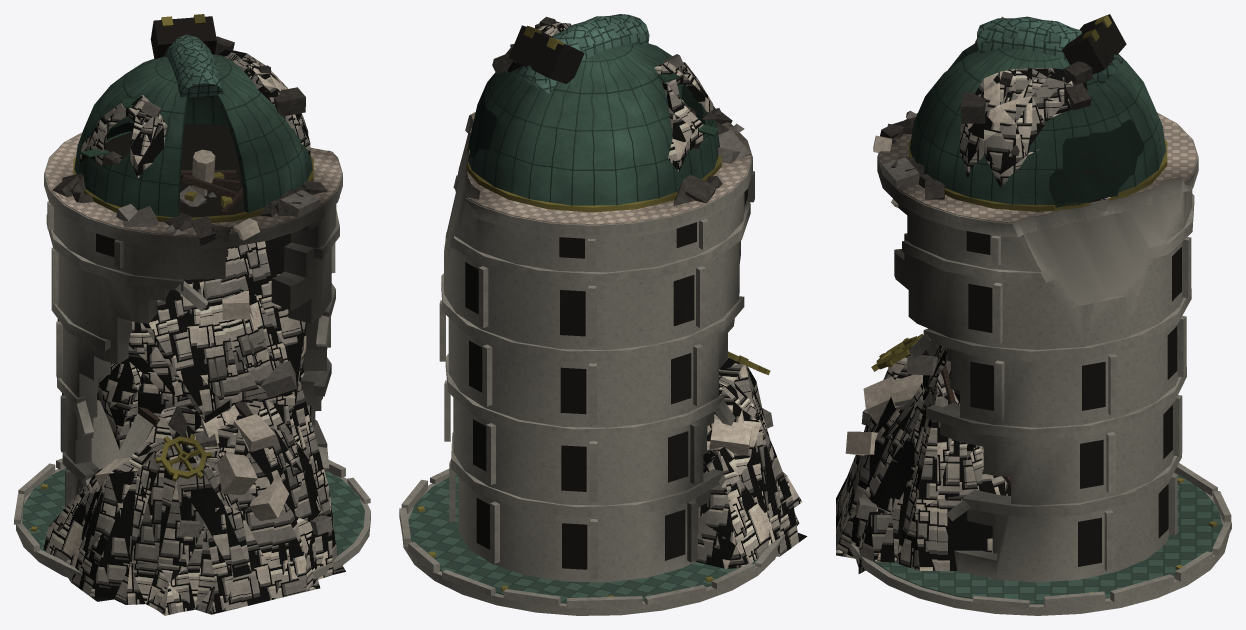
File: CreBuild06a.glb
3 renders of one model, left to right at view 1: azimuth 30°, elevation 25°; view 2: azimuth 150°, elevation 25°; view 3: azimuth 270°, elevation 25°, orthographic. The views are drawn at different scales.
Parts seen in each view (by area): view 1: marble; view 2: marble; view 3: marble.
Boxes of the visible parts, left/top/right/bottom form: marble: left=14, top=14, right=370, bottom=615; marble: left=399, top=14, right=807, bottom=615; marble: left=836, top=14, right=1231, bottom=615.
Size of the model in its own units: 12.08 by 17.96 by 12.31.
14 materials, 12 textured.
